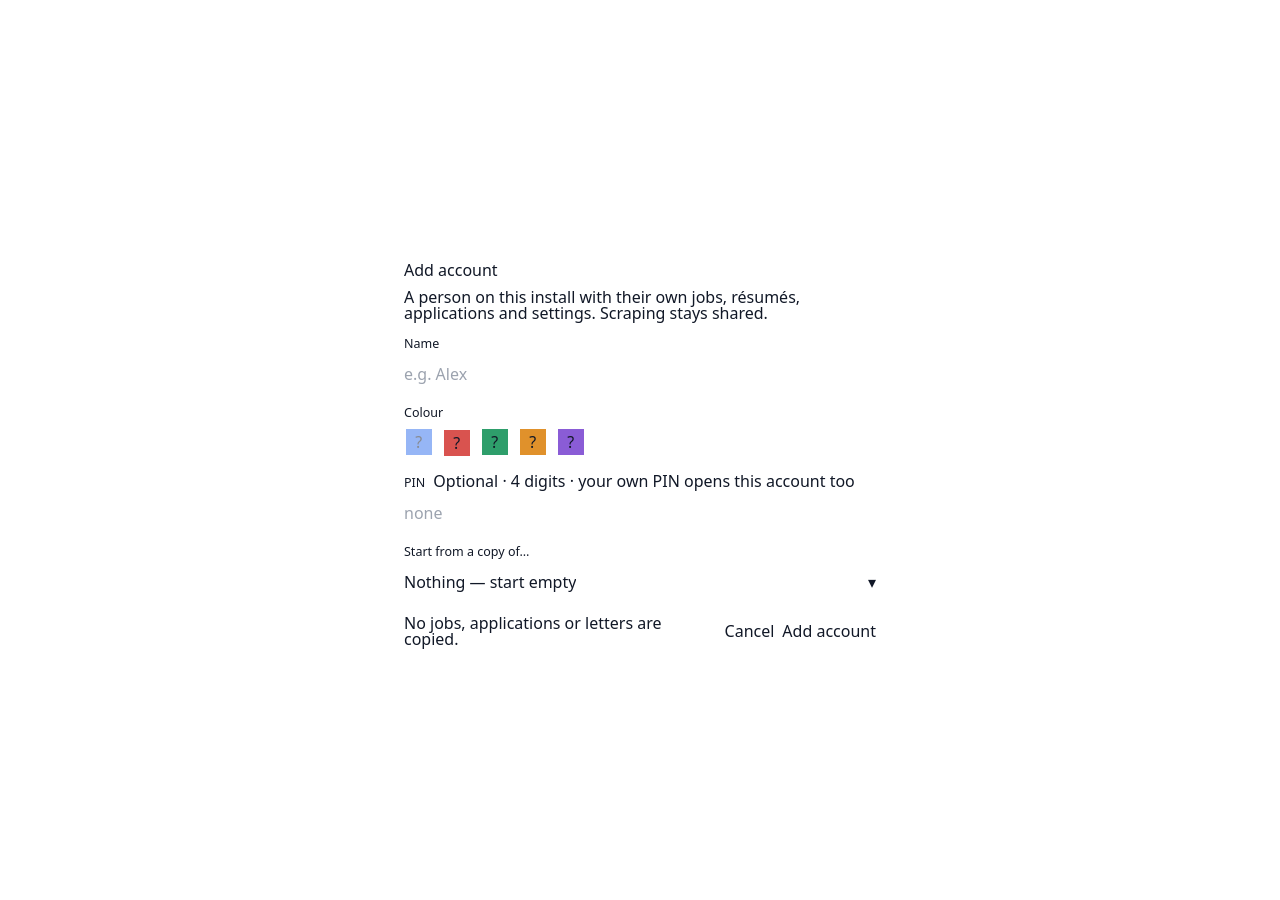
Test case: AddAccountModal › shows the API message for a refused add
Type "Viktor" into the field named "Account name" at [640, 374], box [404, 358, 876, 390]
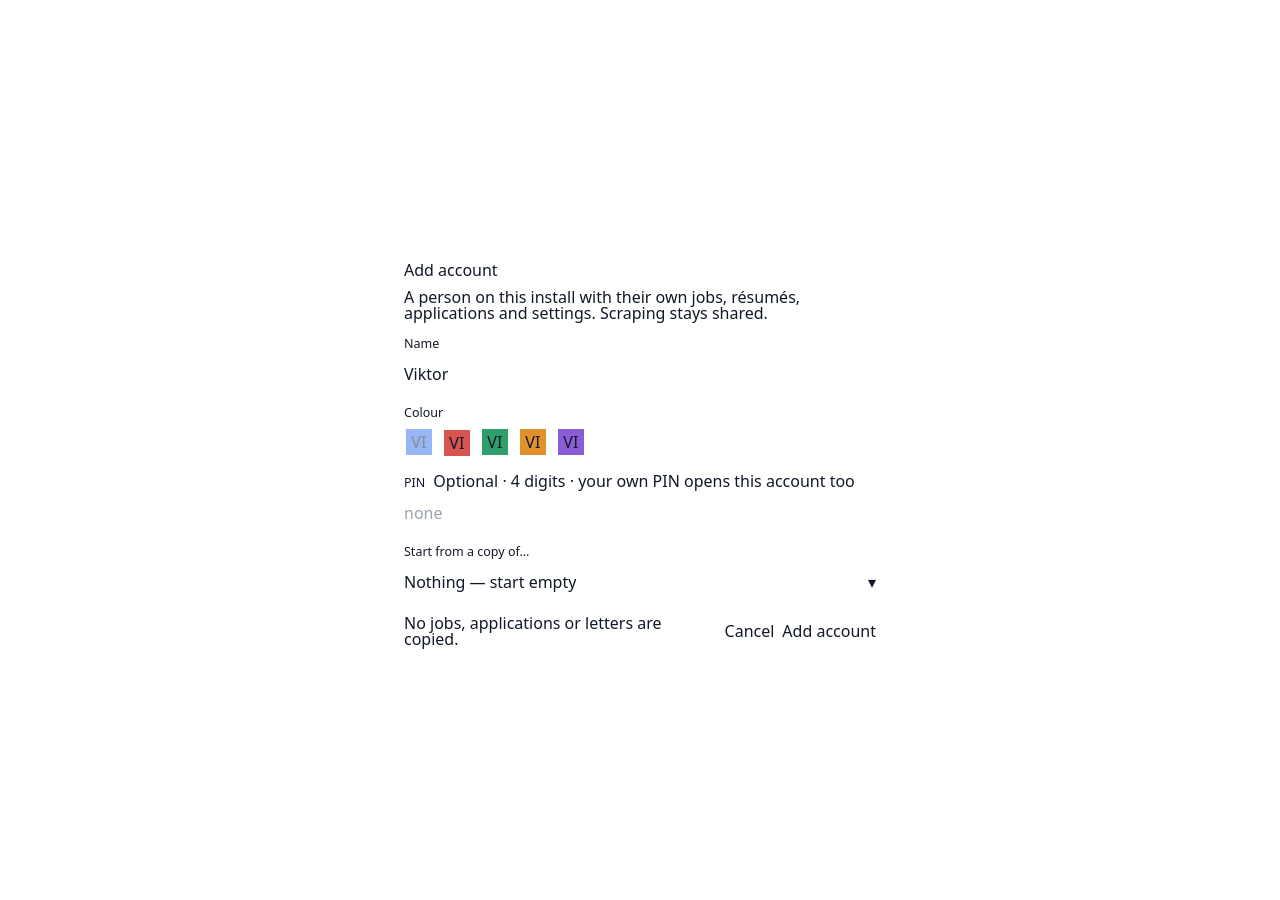
Click the button "Add account" at [829, 630], box [782, 614, 876, 647]
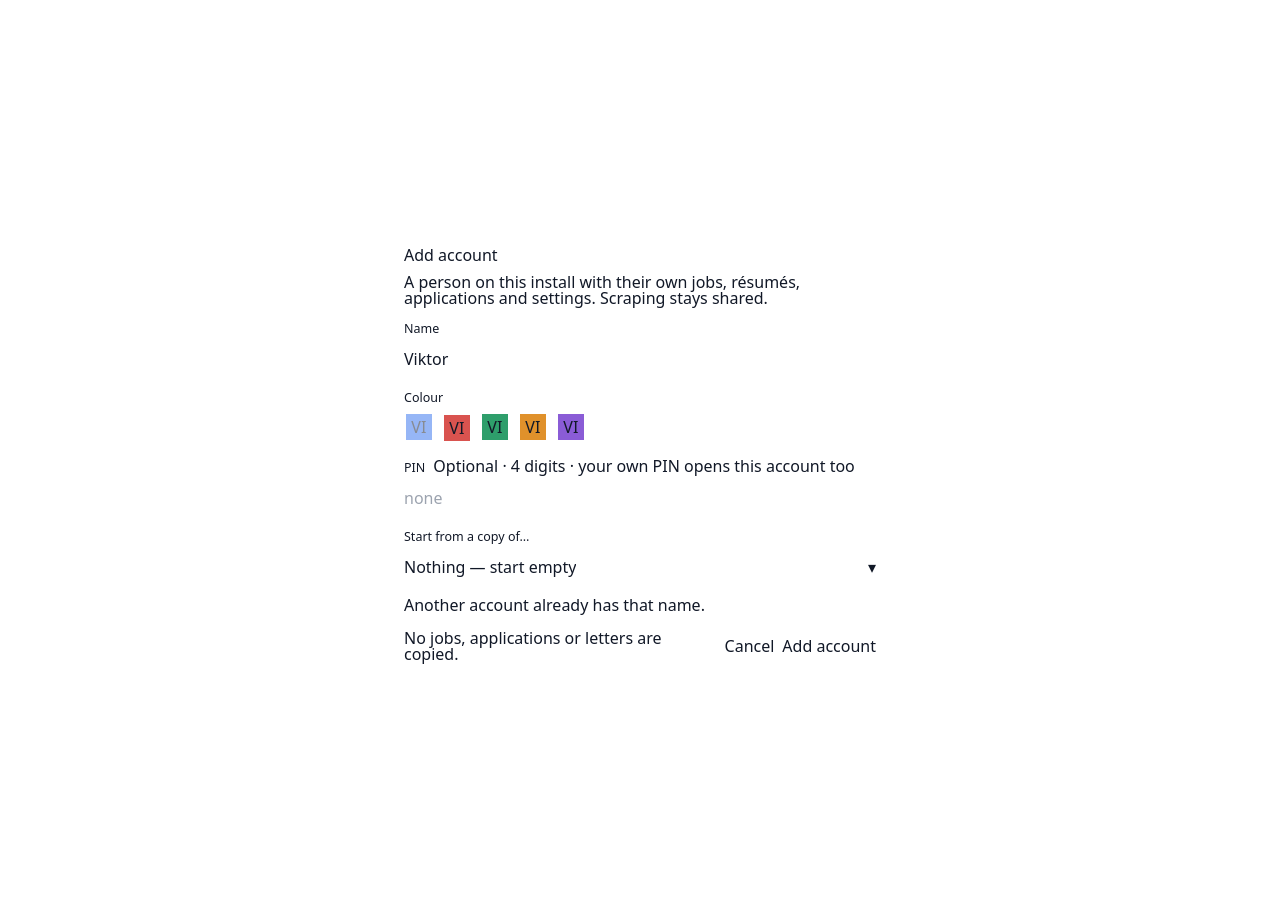
expect the text "Another account already has that name." is shown: met, box [404, 594, 705, 616]
